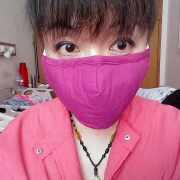OK: (44, 24, 150, 130)
